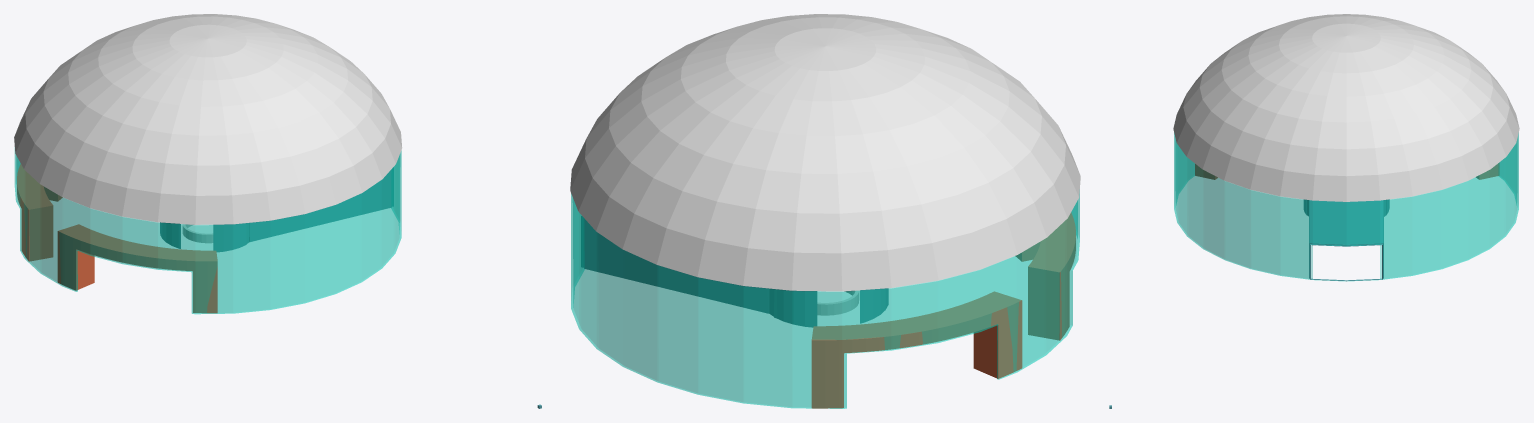
File: hub level2.fbx
The picture shows the model from 3 angles, left to right: view 1: azimuth 30°, elevation 25°; view 2: azimuth 150°, elevation 25°; view 3: azimuth 270°, elevation 25°; orthographic projection. The views are drawn at different scales.
Visible parts, largest first — view 1: Sphere, Cylinder, Cube.004, Cube.005, Cube.002; view 2: Sphere, Cylinder, Cube.004, Cube.005, Cube.002, Cylinder.001; view 3: Sphere, Cylinder, Cube.005, Cube.002.
Boxes of the visible parts, x1,y1,x2,y2 form: Sphere: [14, 14, 402, 224]; Cylinder: [14, 147, 401, 314]; Cube.004: [17, 164, 217, 313]; Cube.005: [249, 170, 391, 241]; Cube.002: [160, 168, 541, 408]; Sphere: [570, 14, 1080, 291]; Cylinder: [571, 190, 1079, 408]; Cube.004: [811, 213, 1075, 408]; Cube.005: [584, 218, 768, 313]; Cube.002: [581, 216, 888, 327]; Cylinder.001: [817, 290, 858, 315]; Sphere: [1173, 14, 1519, 201]; Cylinder: [1174, 133, 1518, 281]; Cube.005: [1309, 200, 1383, 278]; Cube.002: [1109, 199, 1389, 408].
Bounding box in the file's own units: 27895 × 23201 × 30178.
